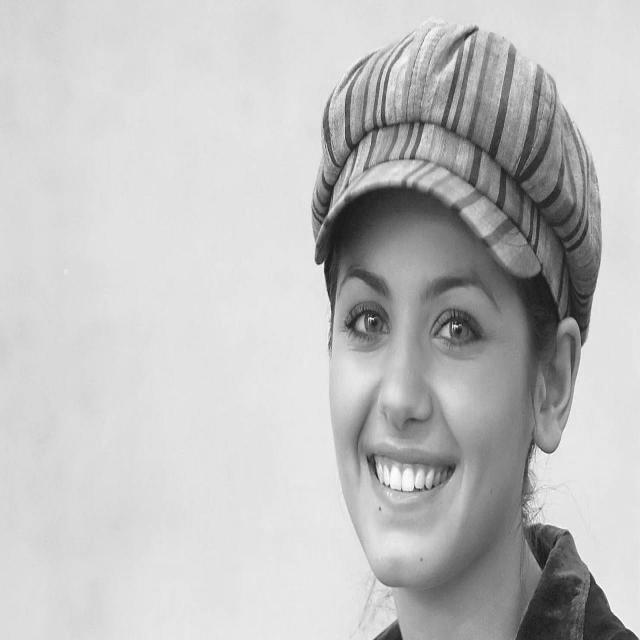real: (309, 187, 587, 591)
